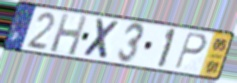1: (155, 27, 177, 69)
2: (25, 11, 57, 52)
3: (115, 20, 146, 67)
H: (48, 11, 89, 58)
P: (173, 30, 209, 71)
X: (81, 17, 122, 62)
